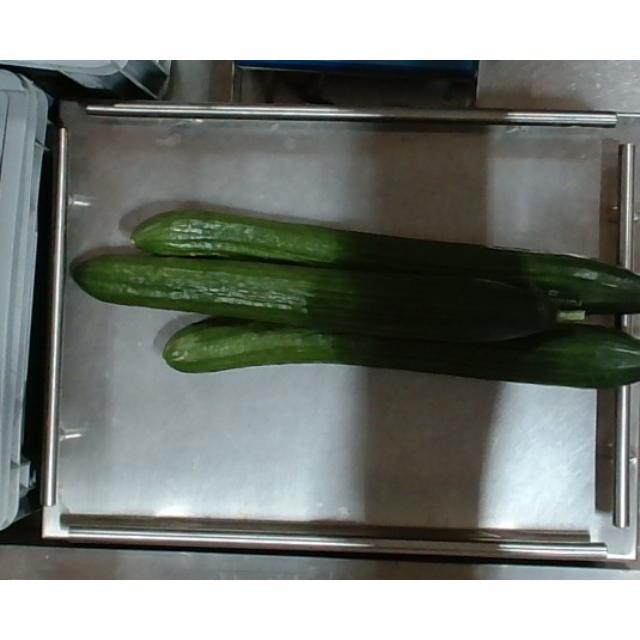cucumber: (128, 208, 640, 312), (74, 248, 566, 342), (161, 313, 639, 393)
